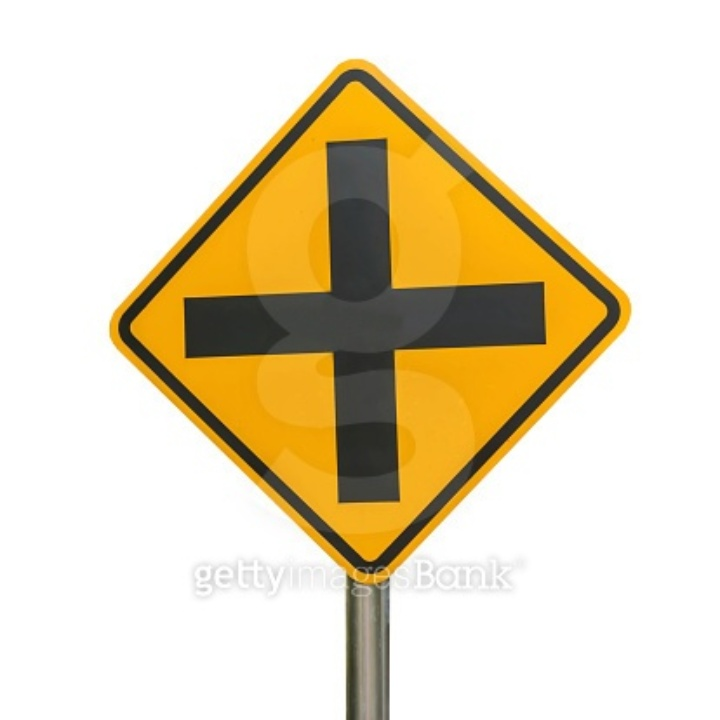inter: (180, 132, 555, 523)
